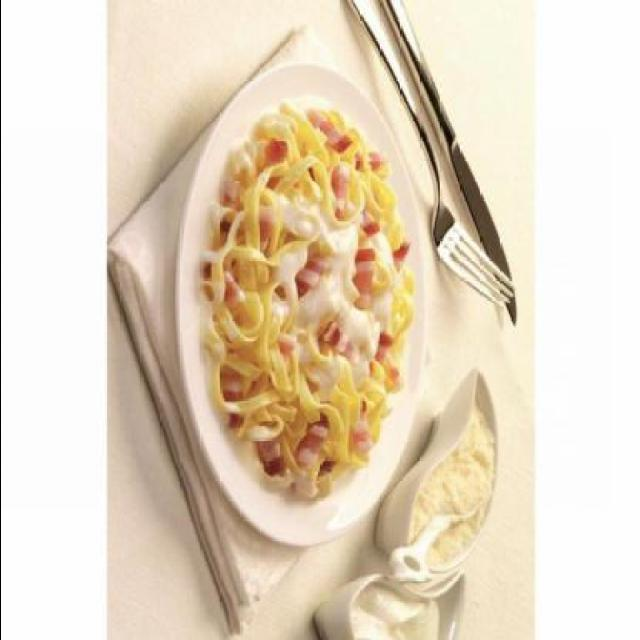Pasta with carbonara sauce: (172, 68, 462, 616)
